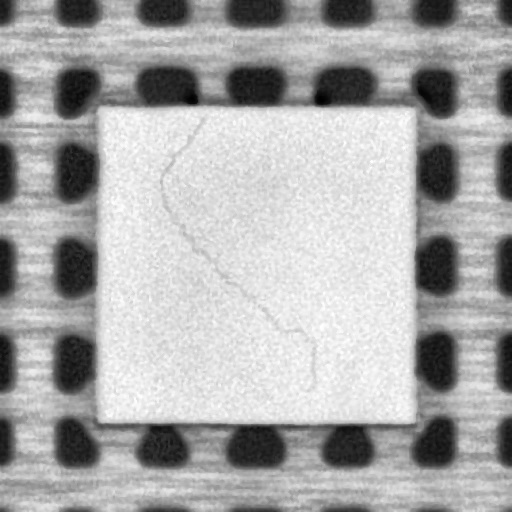DIE_CRACK: (154, 116, 316, 389)
